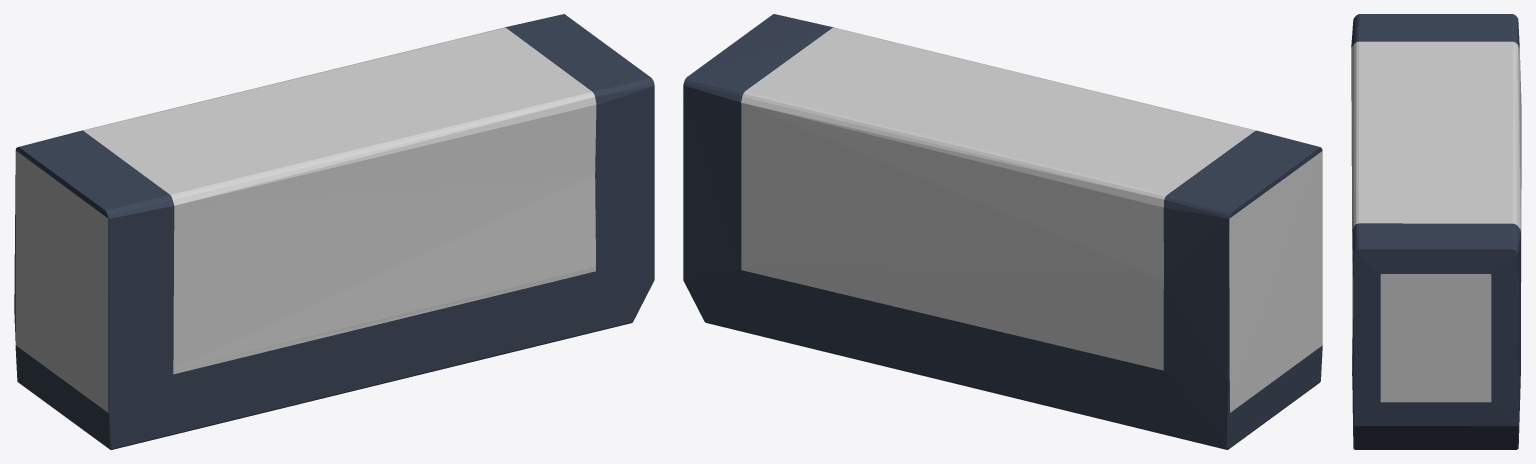
The model's file is module.dae.
3 renders of one model, left to right at view 1: azimuth 30°, elevation 25°; view 2: azimuth 150°, elevation 25°; view 3: azimuth 270°, elevation 25°, orthographic. The views are drawn at different scales.
Parts seen in each view (by area): view 1: module_link; view 2: module_link; view 3: module_link.
Boxes of the visible parts, bbox=[...] form: module_link: bbox=[14, 14, 654, 449]; module_link: bbox=[683, 14, 1322, 449]; module_link: bbox=[1351, 14, 1521, 449].
Size of the model in its own units: 2.36 by 0.7217 by 0.984.
